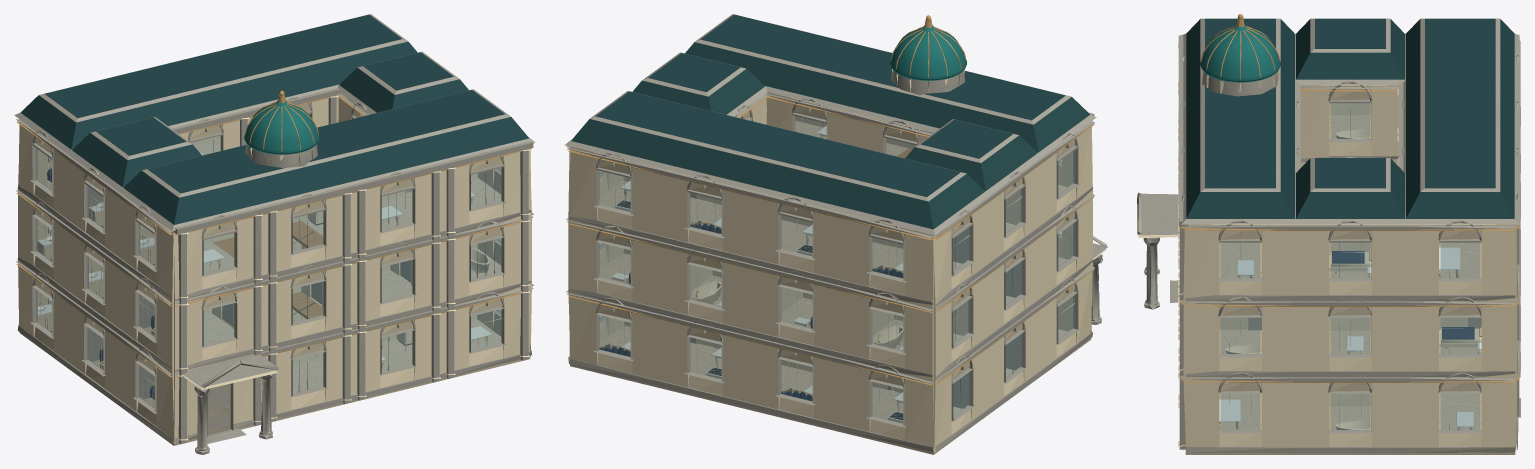
The model's file is res_grand_palais-56ffe51e0e25.glb.
3 views of the same model, side by side, from view 1: azimuth 30°, elevation 25°; view 2: azimuth 150°, elevation 25°; view 3: azimuth 270°, elevation 25° (orthographic). The views are drawn at different scales.
Parts seen in each view (by area): view 1: surface_ivory, surface_stone, surface_deep, surface_Optical_smoke, surface_terrazzo, surface_brass, surface_teal, surface_oak, surface_porcelain; view 2: surface_ivory, surface_deep, surface_stone, surface_Optical_smoke, surface_terrazzo, surface_brass, surface_teal, surface_porcelain, surface_navy; view 3: surface_ivory, surface_deep, surface_stone, surface_Optical_smoke, surface_terrazzo, surface_teal, surface_brass, surface_porcelain, surface_navy.
Part boxes in pixels (x1,y1,x2,y2): surface_ivory: (18,95,531,443); surface_stone: (14,14,535,454); surface_deep: (20,14,528,224); surface_Optical_smoke: (36,114,501,407); surface_terrazzo: (19,140,530,445); surface_brass: (16,90,533,431); surface_teal: (244,100,319,154); surface_oak: (213,221,323,327); surface_porcelain: (37,152,491,360); surface_ivory: (568,69,1106,451); surface_deep: (571,14,1090,229); surface_stone: (564,14,1107,452); surface_Optical_smoke: (599,116,1074,423); surface_terrazzo: (570,121,1091,454); surface_brass: (567,15,1094,395); surface_teal: (890,25,966,80); surface_porcelain: (612,126,903,421); surface_navy: (599,221,903,400); surface_ivory: (1138,42,1517,452); surface_deep: (1186,18,1514,218); surface_stone: (1137,18,1520,453); surface_Optical_smoke: (1221,103,1479,429); surface_terrazzo: (1185,115,1515,454); surface_teal: (1200,24,1280,82); surface_brass: (1181,14,1519,429); surface_porcelain: (1219,247,1481,426); surface_navy: (1332,251,1474,339).
Size of the model in its own units: 16.41 by 13.04 by 13.97.
Materials: 15 (4 with a texture image).
